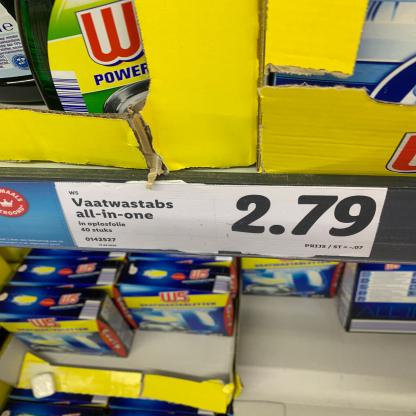prtg: (56, 183, 389, 259)
